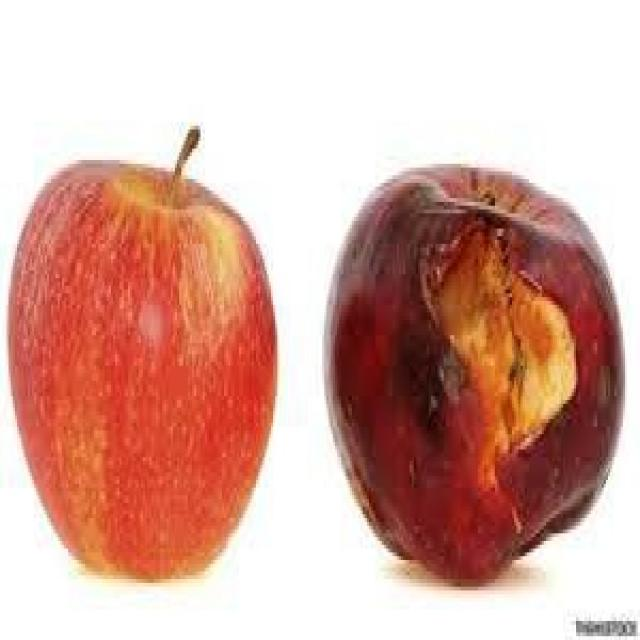fresh_apple: (11, 162, 280, 573)
rotten_apple: (323, 166, 628, 584)
